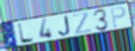3: (92, 8, 109, 33)
4: (39, 17, 53, 41)
J: (58, 15, 72, 37)
L: (17, 22, 36, 44)
P: (110, 5, 127, 29)
Z: (72, 11, 92, 35)
